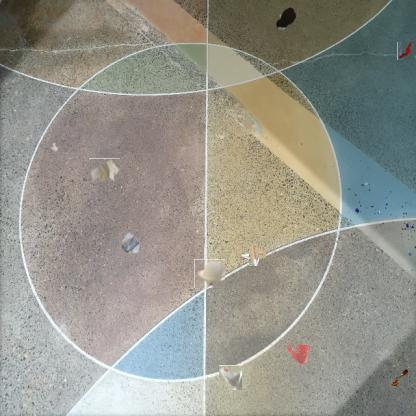dirty: (194, 259, 225, 288), (88, 158, 120, 183), (219, 365, 244, 390), (119, 231, 141, 255), (388, 368, 409, 389), (245, 245, 263, 263), (397, 43, 415, 60)
liquid: (285, 343, 313, 365), (274, 6, 298, 30)
